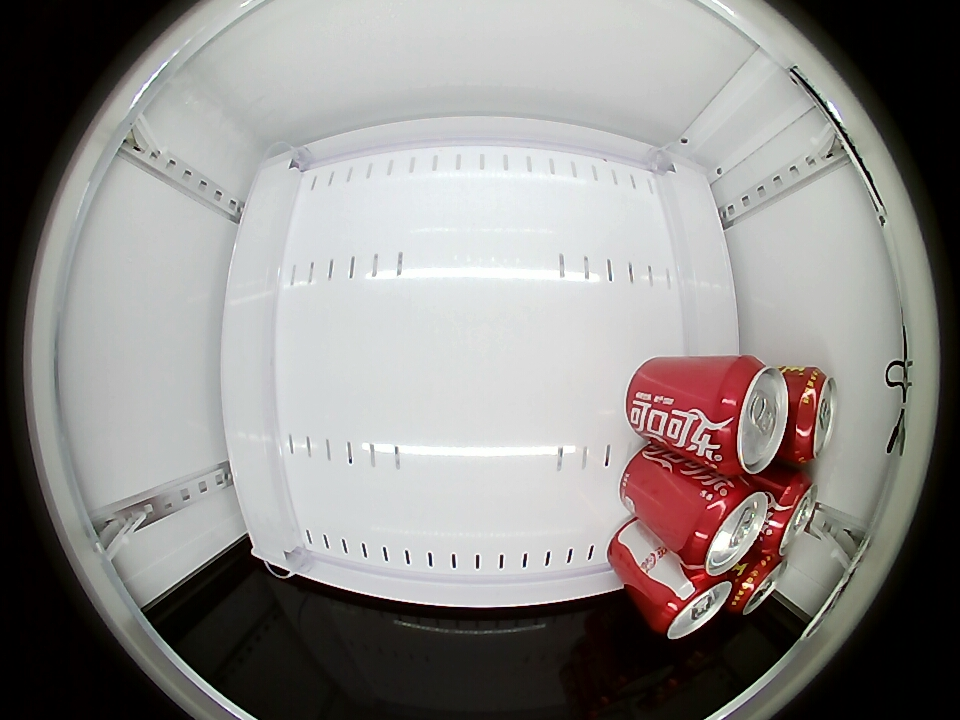kele: (704, 357, 789, 475), (682, 477, 770, 576), (652, 571, 731, 639), (760, 472, 819, 556)
wanglaoji-c: (785, 367, 837, 462), (730, 552, 788, 615)
